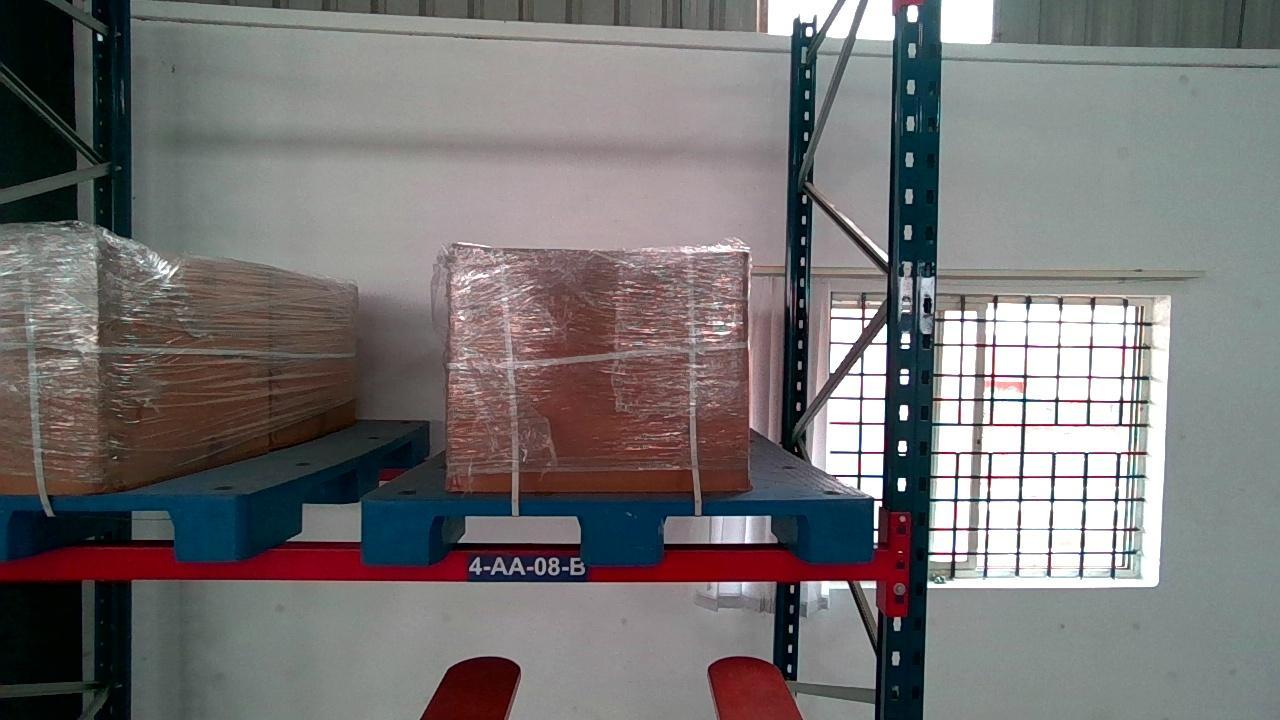h_rack: (0, 548, 889, 580)
small_pallet: (362, 497, 871, 564)
